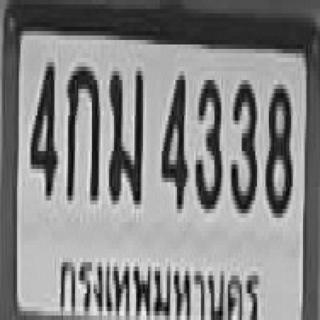A01: (65, 62, 99, 196)
A33: (107, 67, 141, 200)
N03: (194, 76, 221, 204), (230, 76, 255, 209)
N04: (29, 58, 56, 196), (160, 71, 185, 204)
N08: (264, 80, 291, 213)
P04: (53, 247, 263, 320)
